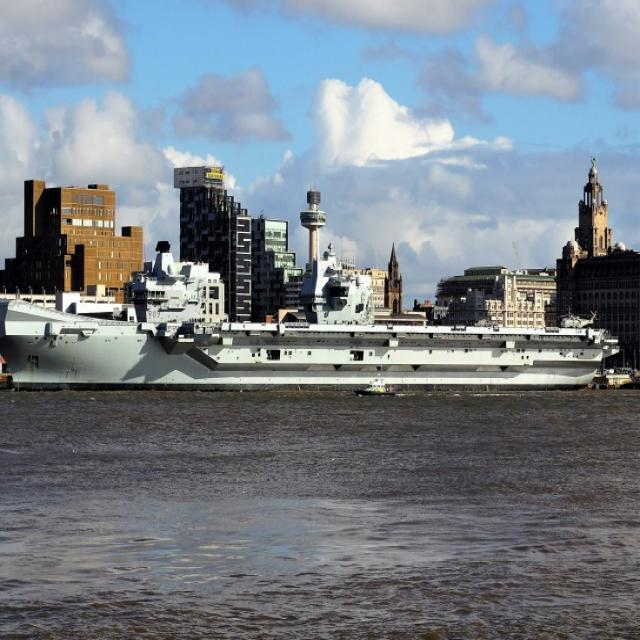Portanaves: (1, 240, 625, 400)
